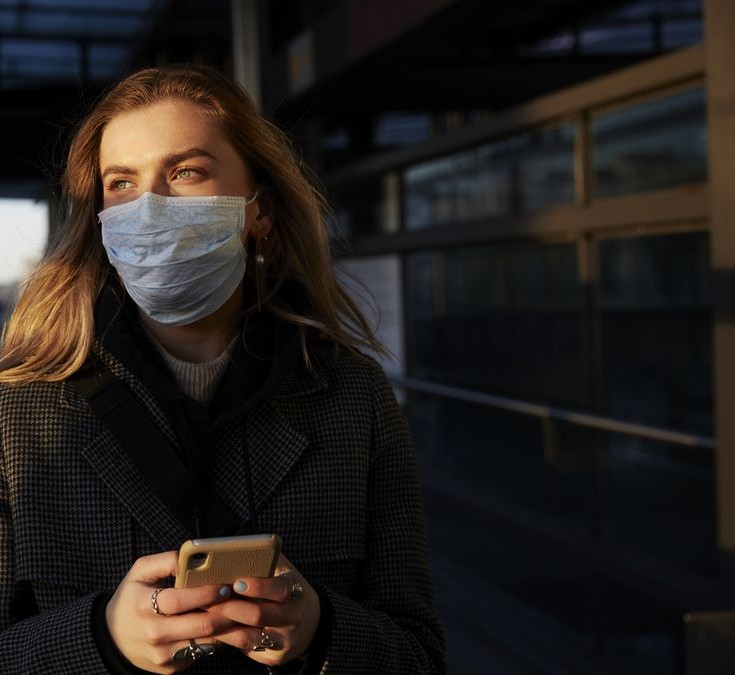with_mask: (82, 94, 271, 317)
